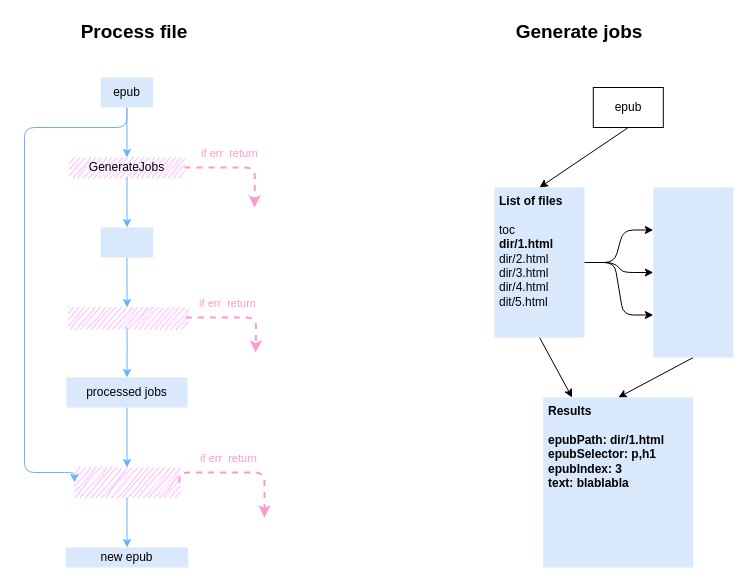
The diagram is 751 pixels wide and 584 high, and some of its shapes have lost their labels. Each missing label, with the box of its shape:
chanks of dir/1.html 0 1 2 3 4: (653, 187, 733, 357)
Generate epub: (74, 467, 179, 497)
jobs: (100, 227, 153, 257)
Process jobs: (68, 307, 185, 327)
